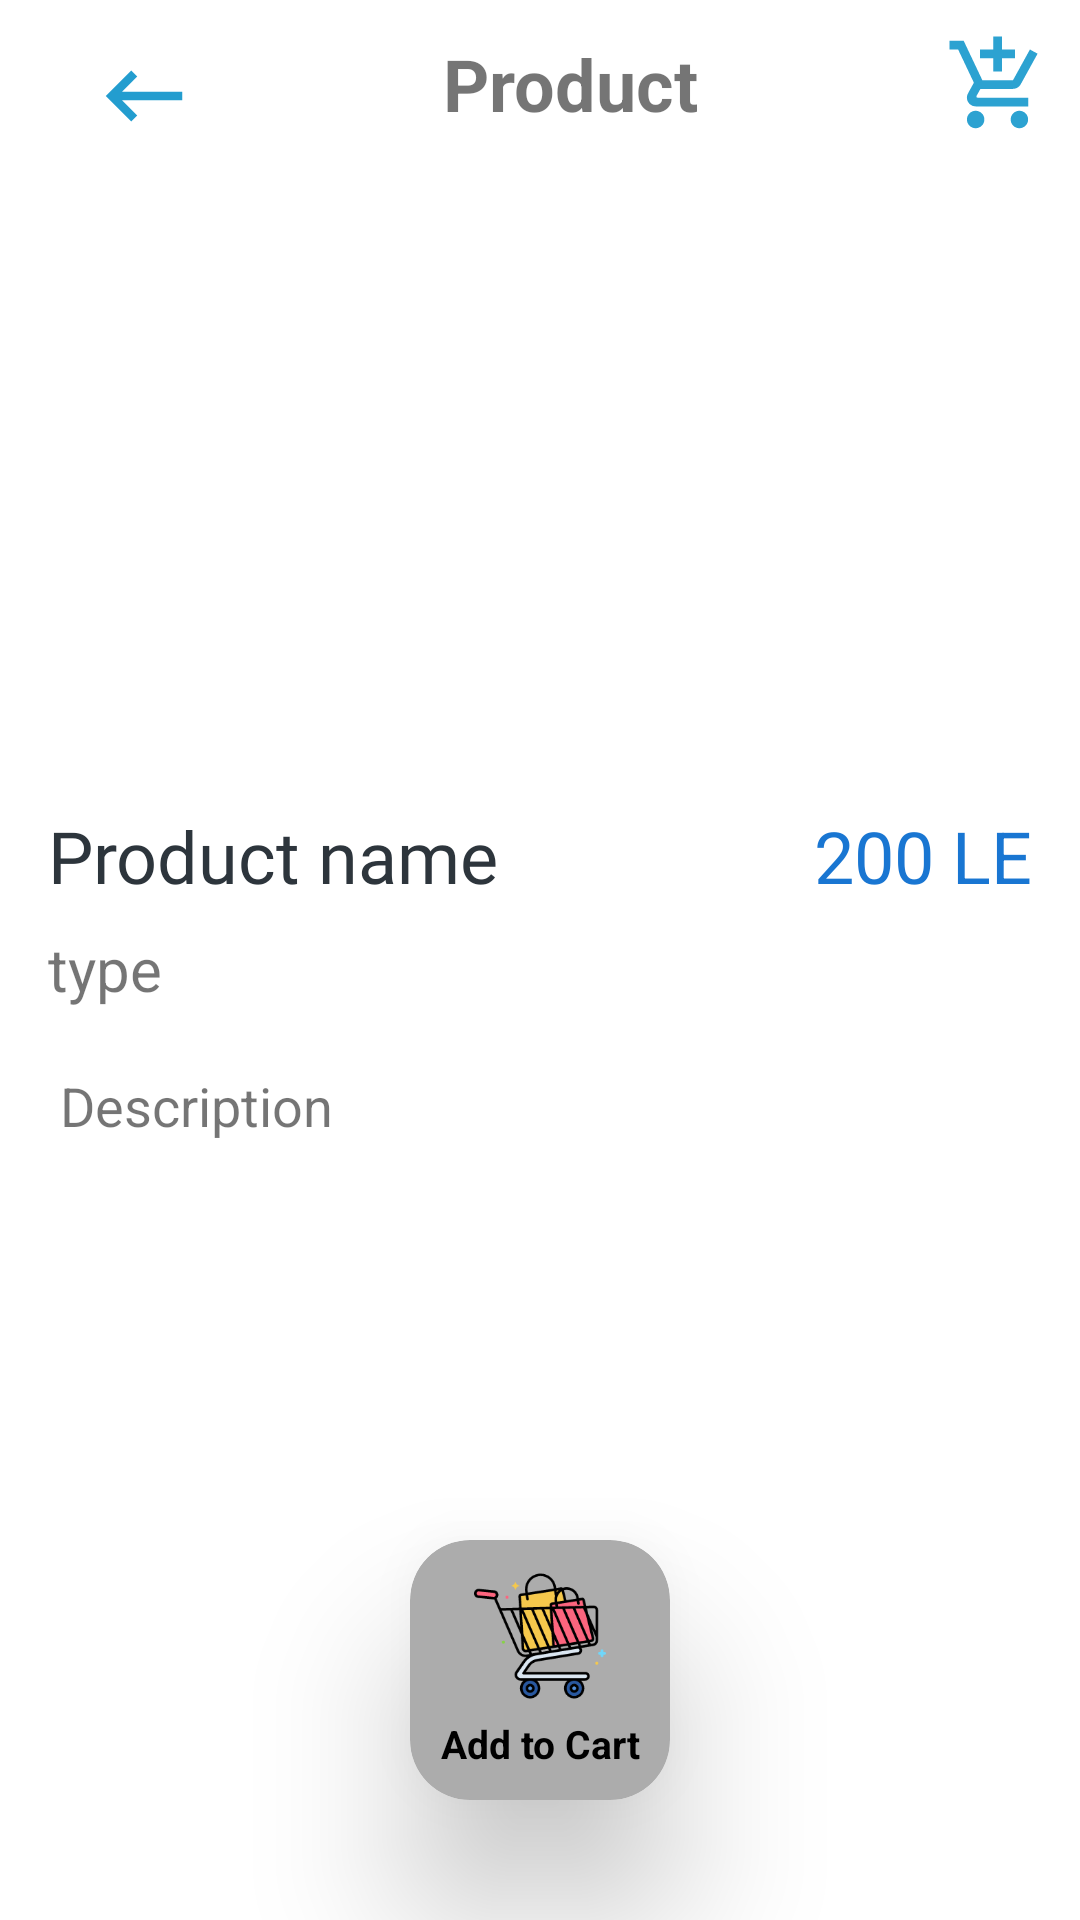

Where icons sit on this 1080 × 1920 app screen, as (left=x1, top=y1, right=x2, bottom=y2):
back: (left=106, top=70, right=183, bottom=122)
